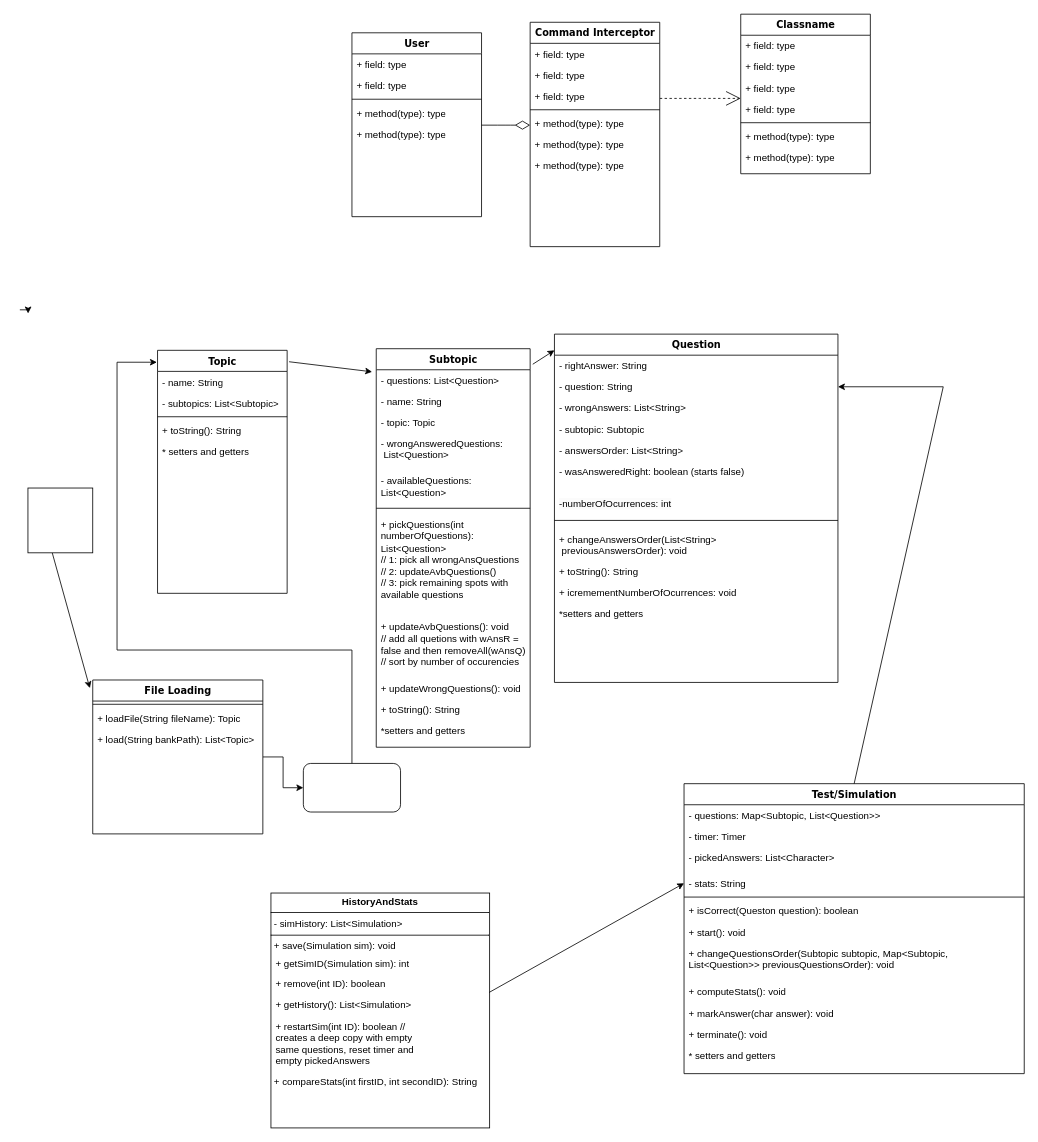
Image size: 1038x1142. Some labels were removed from this diagram. The centre of each missing label's shape, as x and y in pixels:
"CSV FILES BANK" belongs at [60,520].
"Topics List" belongs at [352,787].
